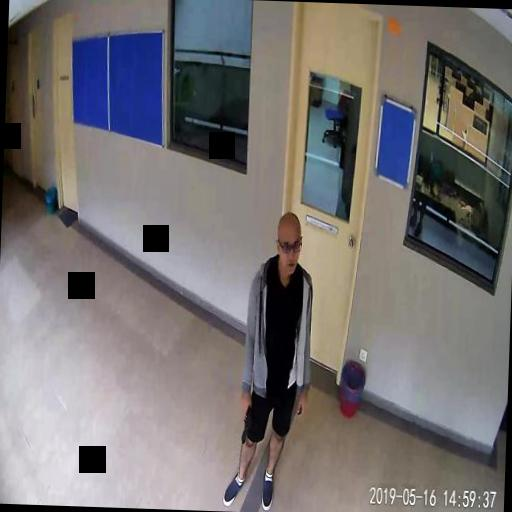Handgun: (238, 400, 250, 442)
